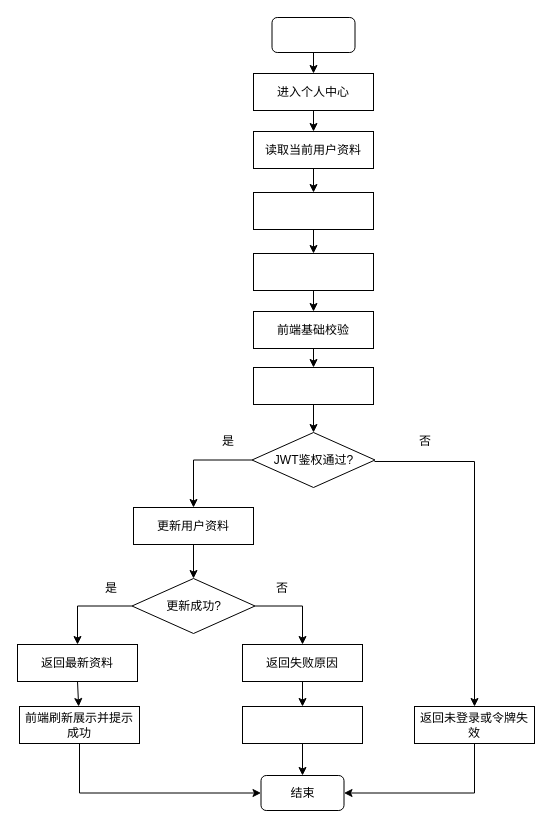
Image size: 552x828. Some labels were removed from this diagram. Each missing label, with the centre of its shape:
"前端展示资料表单" belongs at point 313,211.
"前端提示错误并保留输入" belongs at point 302,725.
"开始" belongs at point 313,34.
"提交更新请求" belongs at point 313,385.
"用户修改昵称/简介/头像" belongs at point 313,271.
